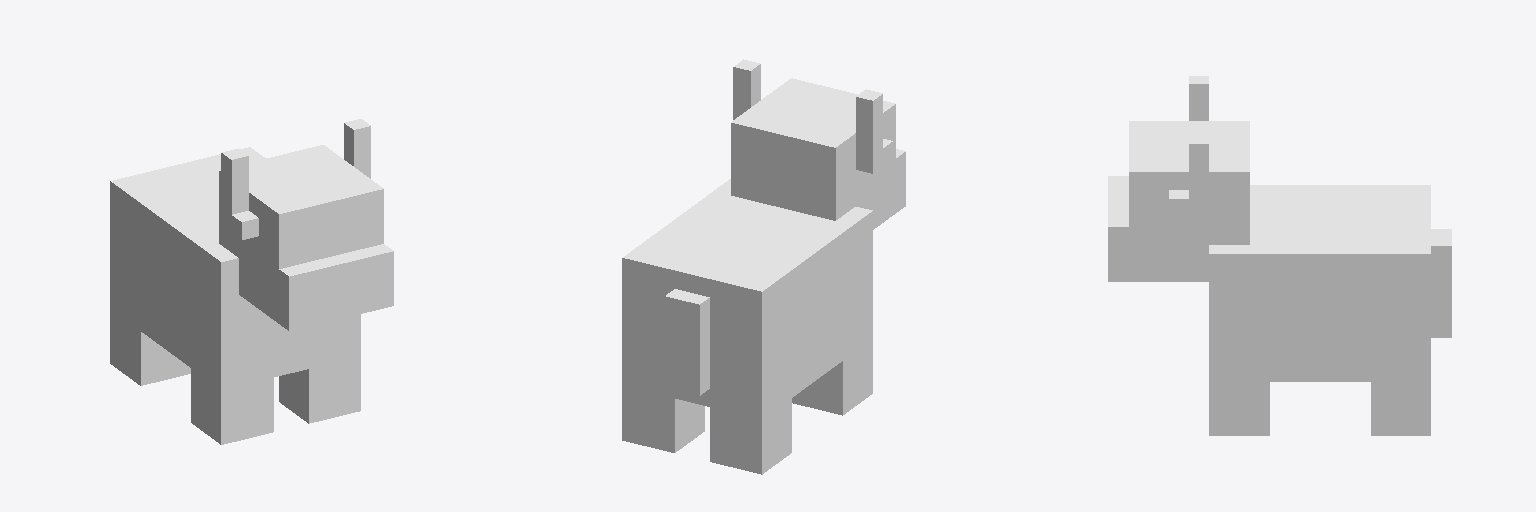
Rendered from cow-01.obj.
3 views of the same model, side by side, from view 1: azimuth 30°, elevation 25°; view 2: azimuth 150°, elevation 25°; view 3: azimuth 270°, elevation 25° (orthographic).
Size of the model in its own units: 8 by 16 by 17.